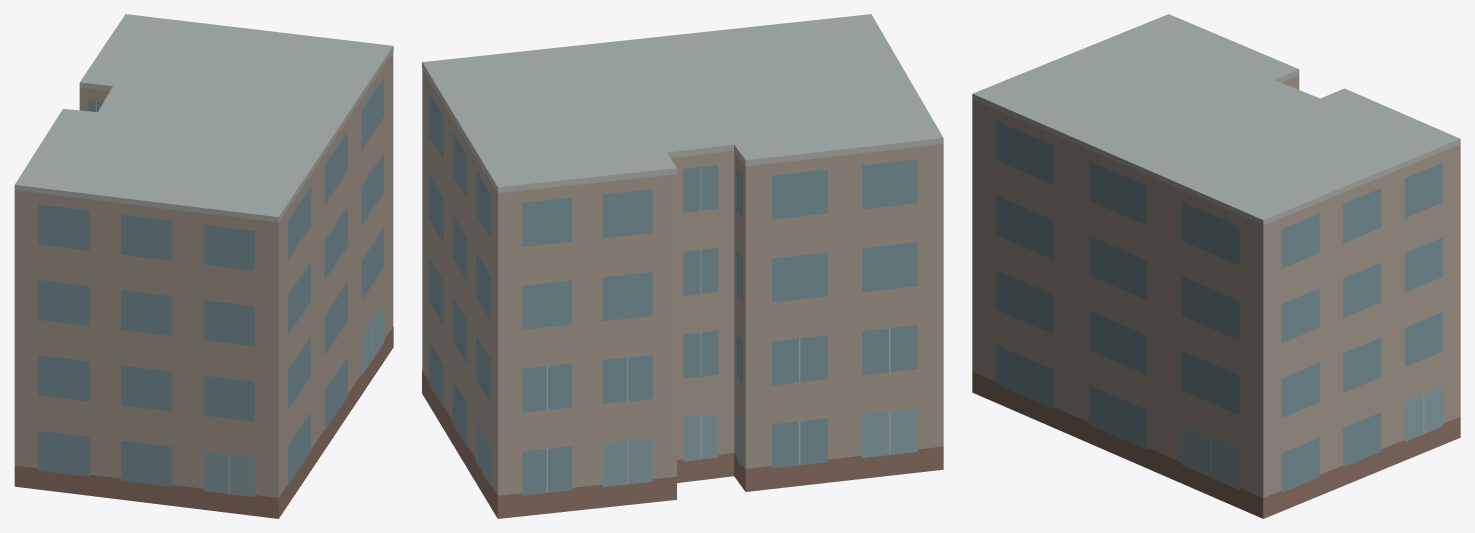
File: survey-upis-32911745.glb
The picture shows the model from 3 angles, left to right: view 1: azimuth 30°, elevation 25°; view 2: azimuth 150°, elevation 25°; view 3: azimuth 270°, elevation 25°; orthographic projection. The views are drawn at different scales.
Visible parts, largest first — view 1: survey-upis-32911745.tmp; view 2: survey-upis-32911745.tmp; view 3: survey-upis-32911745.tmp.
Boxes of the visible parts, x1,y1,x2,y2 form: survey-upis-32911745.tmp: [14, 14, 393, 518]; survey-upis-32911745.tmp: [422, 14, 943, 518]; survey-upis-32911745.tmp: [972, 14, 1460, 518].
Size of the model in its own units: 20.28 by 13.7 by 20.3.
